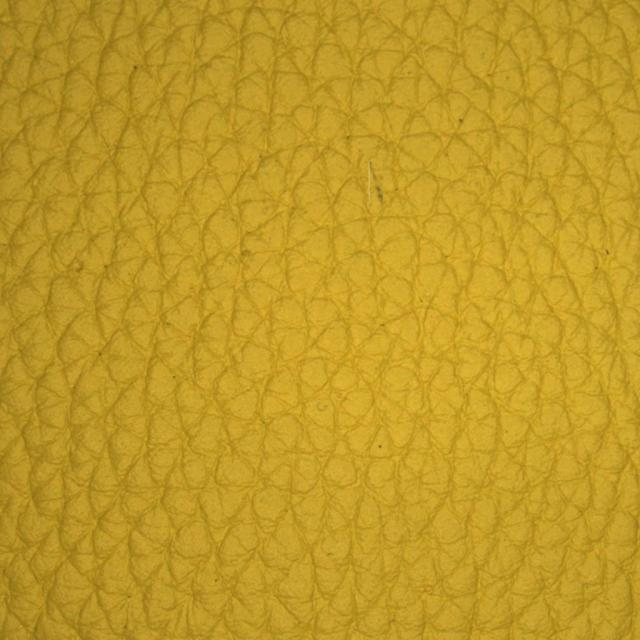Scratch: (329, 117, 433, 271)
